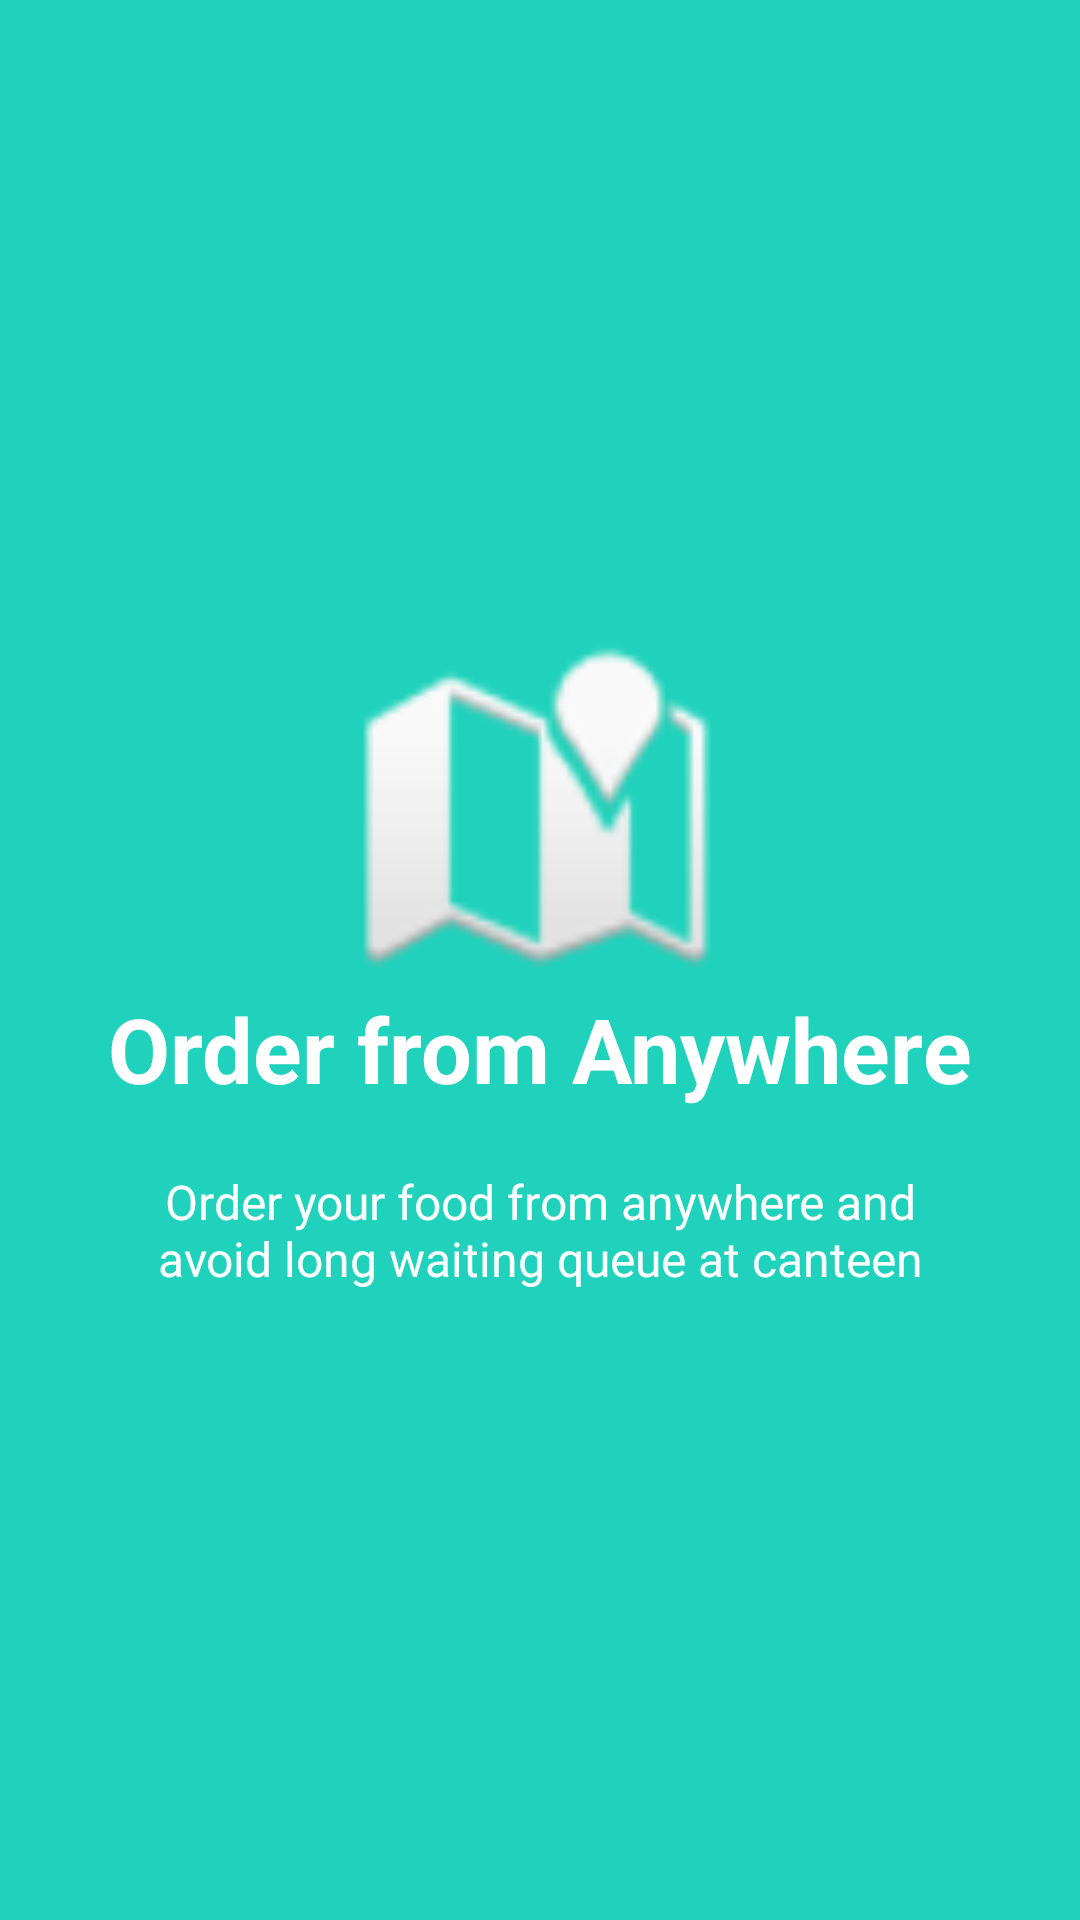

Where icons sit on this 1080x1920 app screen, as (x1, y1, x2, y2):
map: (364, 649, 710, 966)
